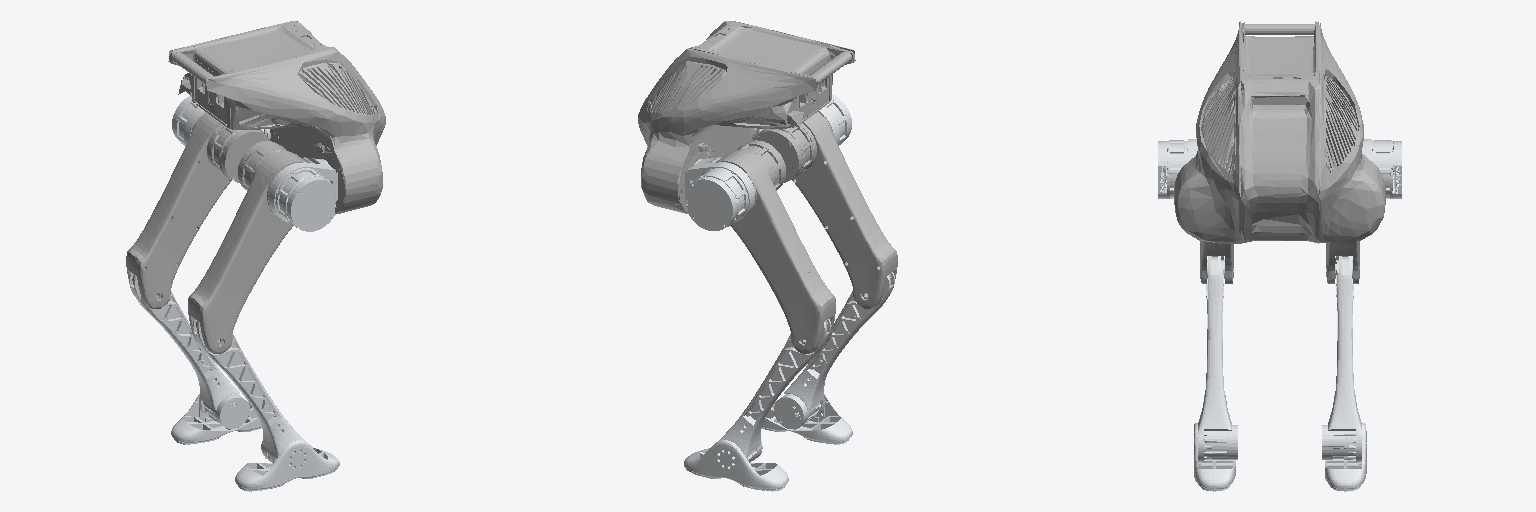
The robot description file, URDF, robot "PTR1T1":
<?xml version="1.0" encoding="utf-8"?>

<!-- 01142025-alpha-1 -->

<robot
  name="PTR1T1">
  <link
    name="base_link">
    <inertial>
      <origin
        xyz="0.0116208 8.653E-05 0.06561291"
        rpy="0 0 0" />
      <mass
        value="10.319" />
      <inertia
        ixx="0.14872683"
        ixy="-5.245E-05"
        ixz="0.04622714"
        iyy="0.12839444"
        iyz="-0.00106039"
        izz="0.14615884" />
    </inertial>
    <visual>
      <origin
        xyz="0 0 0"
        rpy="0 0 0" />
      <geometry>
        <mesh
          filename="../meshes/base_link.STL" />
      </geometry>
      <material
        name="">
        <color
          rgba="0.75294 0.75294 0.75294 1" />
      </material>
    </visual>
    <collision>
      <origin
        xyz="0 0 0"
        rpy="0 0 0" />
      <geometry>
        <mesh
          filename="../meshes/base_link.STL" />
      </geometry>
    </collision>
  </link>
  <link
    name="left_hip_link">
    <inertial>
      <origin
        xyz="-0.070687 0.085298 0.00016397"
        rpy="0 0 0" />
      <mass
        value="2.247" />
      <inertia
        ixx="0.0020765"
        ixy="0.001137"
        ixz="5.6E-07"
        iyy="0.0013657"
        iyz="-4.66E-06"
        izz="0.0028816" />
    </inertial>
    <visual>
      <origin
        xyz="0 0 0"
        rpy="0 0 0" />
      <geometry>
        <mesh
          filename="../meshes/left_hip_link.STL" />
      </geometry>
      <material
        name="">
        <color
          rgba="0.89804 0.91765 0.92941 1" />
      </material>
    </visual>
    <collision>
      <origin
        xyz="0 0 0"
        rpy="0 0 0" />
      <geometry>
        <mesh
          filename="../meshes/left_hip_link.STL" />
      </geometry>
    </collision>
  </link>
  <joint
    name="left_hip_joint"
    type="revolute">
    <origin
      xyz="0 0.1125 0"
      rpy="0 0 0" />
    <parent
      link="base_link" />
    <child
      link="left_hip_link" />
    <axis
      xyz="1 0 0" />
    <limit
      lower="0"
      upper="0"
      effort="0"
      velocity="0" />
  </joint>
  <link
    name="left_thigh_link">
    <inertial>
      <origin
        xyz="-0.025878 -0.056337 -0.035531"
        rpy="0 0 0" />
      <mass
        value="3.072" />
      <inertia
        ixx="0.021873"
        ixy="0.0042332"
        ixz="-0.010541"
        iyy="0.024443"
        iyz="0.0057227"
        izz="0.014258" />
    </inertial>
    <visual>
      <origin
        xyz="0 0 0"
        rpy="0 0 0" />
      <geometry>
        <mesh
          filename="../meshes/left_thigh_link.STL" />
      </geometry>
      <material
        name="">
        <color
          rgba="0.75294 0.75294 0.75294 1" />
      </material>
    </visual>
    <collision>
      <origin
        xyz="0 0 0"
        rpy="0 0 0" />
      <geometry>
        <mesh
          filename="../meshes/left_thigh_link.STL" />
      </geometry>
    </collision>
  </link>
  <joint
    name="left_thigh_joint"
    type="revolute">
    <origin
      xyz="-0.078 0 0"
      rpy="0 0 0" />
    <parent
      link="left_hip_link" />
    <child
      link="left_thigh_link" />
    <axis
      xyz="0 1 0" />
    <limit
      lower="0"
      upper="0"
      effort="0"
      velocity="0" />
  </joint>
  <link
    name="left_knee_link">
    <inertial>
      <origin
        xyz="0.11826 -0.00094983 -0.20112"
        rpy="0 0 0" />
      <mass
        value="1.423" />
      <inertia
        ixx="0.012376"
        ixy="3.92E-05"
        ixz="0.006681"
        iyy="0.016184"
        iyz="-7.213E-05"
        izz="0.0045376" />
    </inertial>
    <visual>
      <origin
        xyz="0 0 0"
        rpy="0 0 0" />
      <geometry>
        <mesh
          filename="../meshes/left_shank_link.STL" />
      </geometry>
      <material
        name="">
        <color
          rgba="0.89804 0.91765 0.92941 1" />
      </material>
    </visual>
    <collision>
      <origin
        xyz="0 0 0"
        rpy="0 0 0" />
      <geometry>
        <mesh
          filename="../meshes/left_shank_link.STL" />
      </geometry>
    </collision>
  </link>
  <joint
    name="left_knee_joint"
    type="revolute">
    <origin
      xyz="-0.15 0 -0.25981"
      rpy="0 0 0" />
    <parent
      link="left_thigh_link" />
    <child
      link="left_knee_link" />
    <axis
      xyz="0 1 0" />
    <limit
      lower="0"
      upper="0"
      effort="0"
      velocity="0" />
  </joint>
  <link
    name="left_foot_link">
    <inertial>
      <origin
        xyz="0 0.007525 -0.030732"
        rpy="0 0 0" />
      <mass
        value="0.476" />
      <inertia
        ixx="0.00033909"
        ixy="-1E-08"
        ixz="-3E-08"
        iyy="0.0015741"
        iyz="-7.497E-05"
        izz="0.0016725" />
    </inertial>
    <visual>
      <origin
        xyz="0 0 0"
        rpy="0 0 0" />
      <geometry>
        <mesh
          filename="../meshes/left_foot_link.STL" />
      </geometry>
      <material
        name="">
        <color
          rgba="0.89804 0.91765 0.92941 1" />
      </material>
    </visual>
    <collision>
      <origin
        xyz="0 0 0"
        rpy="0 0 0" />
      <geometry>
        <mesh
          filename="../meshes/left_foot_link.STL" />
      </geometry>
    </collision>
  </link>
  <joint
    name="left_foot_joint"
    type="revolute">
    <origin
      xyz="0.15001 0 -0.2598"
      rpy="0 0 0" />
    <parent
      link="left_knee_link" />
    <child
      link="left_foot_link" />
    <axis
      xyz="0 1 0" />
    <limit
      lower="0"
      upper="0"
      effort="0"
      velocity="0" />
  </joint>
  <link
    name="right_hip_link">
    <inertial>
      <origin
        xyz="-0.070687 -0.085298 -0.00016397"
        rpy="0 0 0" />
      <mass
        value="2.247" />
      <inertia
        ixx="0.0020765"
        ixy="-0.001137"
        ixz="-5.6E-07"
        iyy="0.0013657"
        iyz="-4.66E-06"
        izz="0.0028816" />
    </inertial>
    <visual>
      <origin
        xyz="0 0 0"
        rpy="0 0 0" />
      <geometry>
        <mesh
          filename="../meshes/right_hip_link.STL" />
      </geometry>
      <material
        name="">
        <color
          rgba="0.89804 0.91765 0.92941 1" />
      </material>
    </visual>
    <collision>
      <origin
        xyz="0 0 0"
        rpy="0 0 0" />
      <geometry>
        <mesh
          filename="../meshes/right_hip_link.STL" />
      </geometry>
    </collision>
  </link>
  <joint
    name="right_hip_joint"
    type="revolute">
    <origin
      xyz="0 -0.1125 0"
      rpy="0 0 0" />
    <parent
      link="base_link" />
    <child
      link="right_hip_link" />
    <axis
      xyz="1 0 0" />
    <limit
      lower="0"
      upper="0"
      effort="0"
      velocity="0" />
  </joint>
  <link
    name="right_thigh_link">
    <inertial>
      <origin
        xyz="-0.025873 0.056341 -0.035287"
        rpy="0 0 0" />
      <mass
        value="3.072" />
      <inertia
        ixx="0.02192"
        ixy="-0.0042319"
        ixz="-0.010563"
        iyy="0.024491"
        iyz="-0.0057466"
        izz="0.014256" />
    </inertial>
    <visual>
      <origin
        xyz="0 0 0"
        rpy="0 0 0" />
      <geometry>
        <mesh
          filename="../meshes/right_thigh_link.STL" />
      </geometry>
      <material
        name="">
        <color
          rgba="0.75294 0.75294 0.75294 1" />
      </material>
    </visual>
    <collision>
      <origin
        xyz="0 0 0"
        rpy="0 0 0" />
      <geometry>
        <mesh
          filename="../meshes/right_thigh_link.STL" />
      </geometry>
    </collision>
  </link>
  <joint
    name="right_thigh_joint"
    type="revolute">
    <origin
      xyz="-0.078 0 0"
      rpy="0 0 0" />
    <parent
      link="right_hip_link" />
    <child
      link="right_thigh_link" />
    <axis
      xyz="0 1 0" />
    <limit
      lower="0"
      upper="0"
      effort="0"
      velocity="0" />
  </joint>
  <link
    name="right_knee_link">
    <inertial>
      <origin
        xyz="0.11827 0.001241 -0.20111"
        rpy="0 0 0" />
      <mass
        value="1.423" />
      <inertia
        ixx="0.01238"
        ixy="-5.173E-05"
        ixz="0.0066804"
        iyy="0.016183"
        iyz="9.712E-05"
        izz="0.0045358" />
    </inertial>
    <visual>
      <origin
        xyz="0 0 0"
        rpy="0 0 0" />
      <geometry>
        <mesh
          filename="../meshes/right_shank_link.STL" />
      </geometry>
      <material
        name="">
        <color
          rgba="0.89804 0.91765 0.92941 1" />
      </material>
    </visual>
    <collision>
      <origin
        xyz="0 0 0"
        rpy="0 0 0" />
      <geometry>
        <mesh
          filename="../meshes/right_shank_link.STL" />
      </geometry>
    </collision>
  </link>
  <joint
    name="right_knee_joint"
    type="revolute">
    <origin
      xyz="-0.15 0 -0.25981"
      rpy="0 0 0" />
    <parent
      link="right_thigh_link" />
    <child
      link="right_knee_link" />
    <axis
      xyz="0 1 0" />
    <limit
      lower="0"
      upper="0"
      effort="0"
      velocity="0" />
  </joint>
  <link
    name="right_foot_link">
    <inertial>
      <origin
        xyz="0 -0.0070117 -0.030732"
        rpy="0 0 0" />
      <mass
        value="0.476" />
      <inertia
        ixx="0.00033909"
        ixy="-1E-08"
        ixz="-4E-08"
        iyy="0.0015741"
        iyz="7.497E-05"
        izz="0.0016725" />
    </inertial>
    <visual>
      <origin
        xyz="0 0 0"
        rpy="0 0 0" />
      <geometry>
        <mesh
          filename="../meshes/right_foot_link.STL" />
      </geometry>
      <material
        name="">
        <color
          rgba="0.89804 0.91765 0.92941 1" />
      </material>
    </visual>
    <collision>
      <origin
        xyz="0 0 0"
        rpy="0 0 0" />
      <geometry>
        <mesh
          filename="../meshes/right_foot_link.STL" />
      </geometry>
    </collision>
  </link>
  <joint
    name="right_foot_joint"
    type="revolute">
    <origin
      xyz="0.15001 0 -0.2598"
      rpy="0 0 0" />
    <parent
      link="right_knee_link" />
    <child
      link="right_foot_link" />
    <axis
      xyz="0 1 0" />
    <limit
      lower="0"
      upper="0"
      effort="0"
      velocity="0" />
  </joint>
</robot>

--- Render facts (derived) ---
The picture shows the robot from 3 angles, left to right: view 1: azimuth 30°, elevation 25°; view 2: azimuth 150°, elevation 25°; view 3: azimuth 270°, elevation 25°; orthographic projection.
Robot: PTR1T1 — 9 links, 8 joints (8 revolute); root link base_link; default pose: every joint at zero.
Visible links, largest first — view 1: base_link, left_thigh_link, right_thigh_link, left_knee_link, right_hip_link, right_knee_link, right_foot_link, left_foot_link, left_hip_link; view 2: base_link, right_thigh_link, left_thigh_link, right_knee_link, left_hip_link, left_knee_link, left_foot_link, right_foot_link, right_hip_link; view 3: base_link, right_knee_link, left_knee_link, right_hip_link, left_hip_link, left_foot_link, right_foot_link, left_thigh_link, right_thigh_link.
Boxes of the visible links, box(x1,y1,x2,y2) form: base_link: box(168, 21, 385, 214); left_thigh_link: box(126, 112, 269, 308); right_thigh_link: box(188, 141, 312, 353); left_knee_link: box(129, 272, 249, 428); right_hip_link: box(268, 158, 337, 231); right_knee_link: box(192, 319, 304, 463); right_foot_link: box(235, 440, 339, 491); left_foot_link: box(171, 394, 261, 444); left_hip_link: box(172, 96, 270, 146); base_link: box(638, 21, 855, 213); right_thigh_link: box(754, 112, 897, 308); left_thigh_link: box(710, 140, 835, 353); right_knee_link: box(774, 272, 894, 429); left_hip_link: box(685, 158, 754, 230); left_knee_link: box(719, 319, 831, 462); left_foot_link: box(684, 440, 788, 491); right_foot_link: box(762, 394, 852, 444); right_hip_link: box(753, 95, 851, 145); base_link: box(1174, 21, 1385, 243); right_knee_link: box(1198, 256, 1237, 461); left_knee_link: box(1322, 256, 1361, 461); right_hip_link: box(1158, 139, 1197, 198); left_hip_link: box(1362, 139, 1401, 198); left_foot_link: box(1325, 423, 1366, 491); right_foot_link: box(1194, 423, 1235, 491); left_thigh_link: box(1326, 241, 1359, 283); right_thigh_link: box(1200, 141, 1233, 283).
Bounding box of the posed robot: 0.4166 × 0.421 × 0.7902 m (x, y, z).
9 mesh visuals loaded from 9 distinct referenced files (9 binary STL).